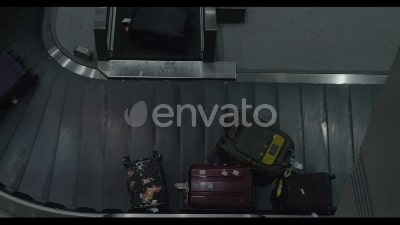baggage: (210, 109, 301, 174), (174, 159, 259, 215), (118, 151, 171, 215), (270, 170, 337, 217), (123, 9, 198, 50), (2, 46, 38, 121)
